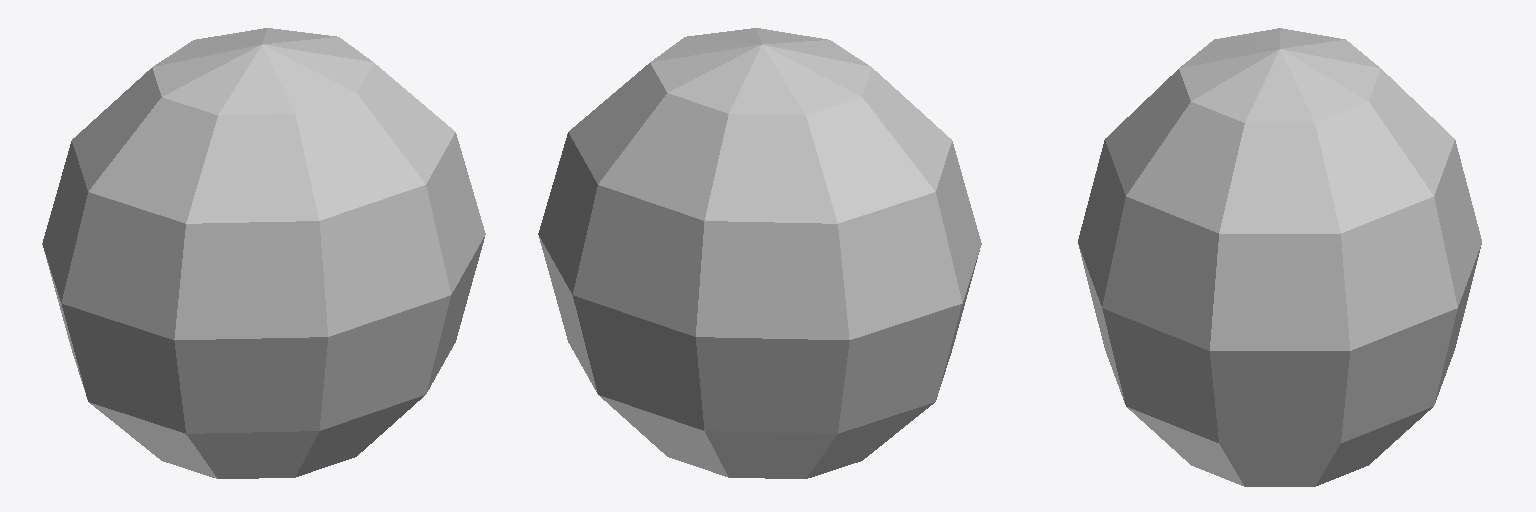
Rendered from head.obj.
3 renders of one model, left to right at view 1: azimuth 30°, elevation 25°; view 2: azimuth 150°, elevation 25°; view 3: azimuth 270°, elevation 25°, orthographic.
Parts seen in each view (by area): view 1: Sphere; view 2: Sphere; view 3: Sphere.
Part boxes in pixels (left/top/right/bottom): Sphere: left=42, top=28, right=485, bottom=478; Sphere: left=538, top=28, right=981, bottom=478; Sphere: left=1078, top=28, right=1481, bottom=486.
Size of the model in its own units: 1.94 by 2 by 1.75.